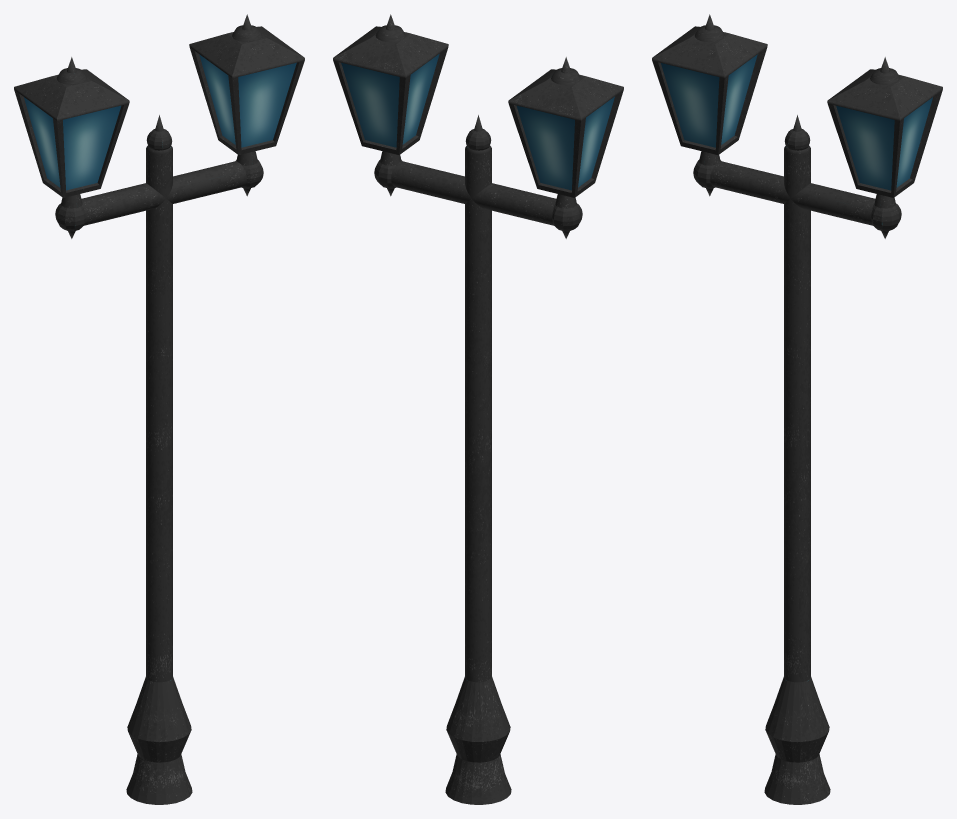
File: geo_lamp1.obj
3 renders of one model, left to right at view 1: azimuth 30°, elevation 25°; view 2: azimuth 150°, elevation 25°; view 3: azimuth 330°, elevation 25°, orthographic.
Parts seen in each view (by area): view 1: polySurface8, polySurface7; view 2: polySurface8, polySurface7; view 3: polySurface8, polySurface7.
Part boxes in pixels (x1=…): polySurface8: x1=14, y1=14, x2=304, y2=238; polySurface7: x1=126, y1=115, x2=192, y2=804; polySurface8: x1=333, y1=14, x2=623, y2=238; polySurface7: x1=445, y1=115, x2=511, y2=804; polySurface8: x1=652, y1=14, x2=942, y2=238; polySurface7: x1=764, y1=115, x2=830, y2=804.
Bounding box in the file's own units: 2.26 × 6.59 × 0.679.
